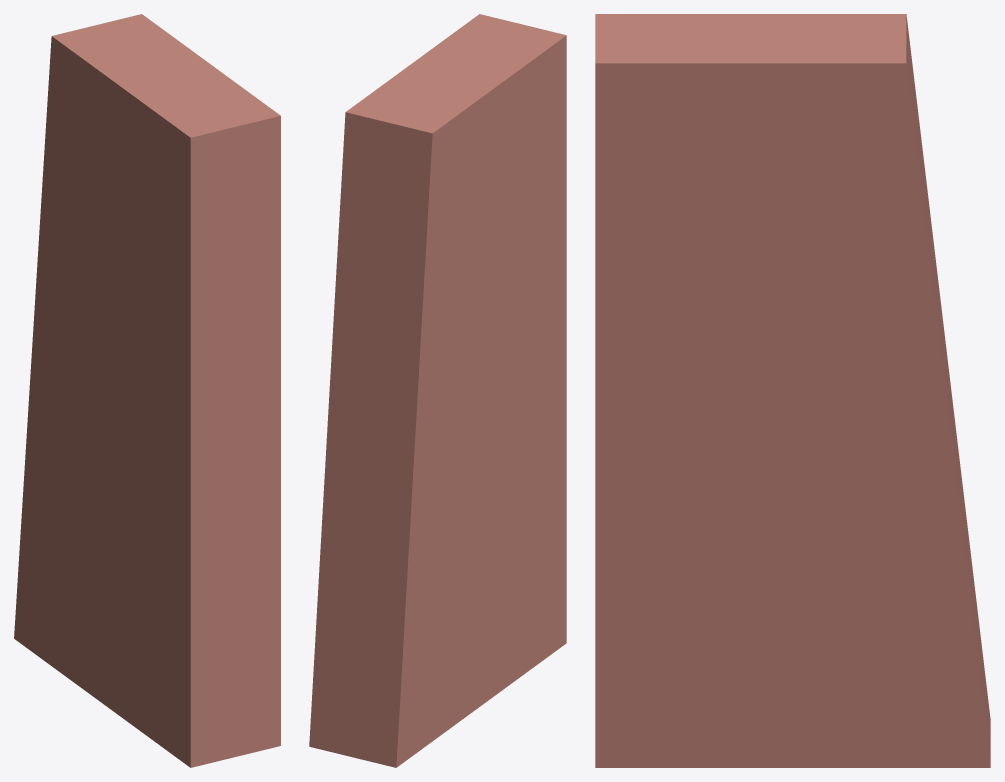
Rendered from BasicSupport03Base.fbx.
3 views of the same model, side by side, from view 1: azimuth 30°, elevation 25°; view 2: azimuth 150°, elevation 25°; view 3: azimuth 270°, elevation 25° (orthographic). The views are drawn at different scales.
Visible parts, largest first — view 1: BasicSupport03Base.006; view 2: BasicSupport03Base.006; view 3: BasicSupport03Base.006.
Boxes of the visible parts, x1,y1,x2,y2 form: BasicSupport03Base.006: (14,14,280,767); BasicSupport03Base.006: (309,14,566,767); BasicSupport03Base.006: (595,14,990,767).
Size of the model in its own units: 75 by 500 by 254.
